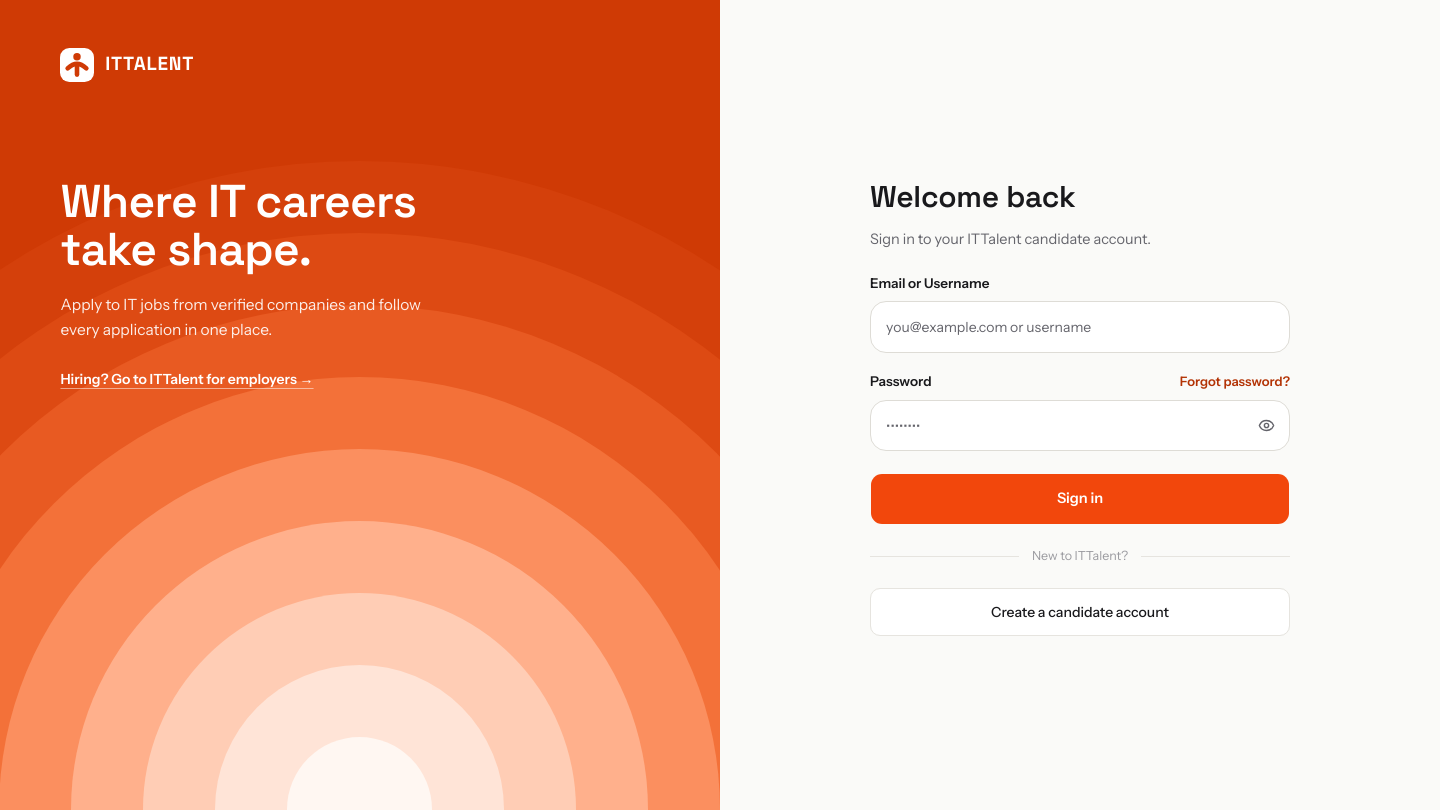
Scenario: LoginPage › displays error alert banner on invalid credentials
Type "wrong@example.com" into the field labelled "Email or Username" at [1080, 327], box x1=870 y1=301 x2=1290 y2=353
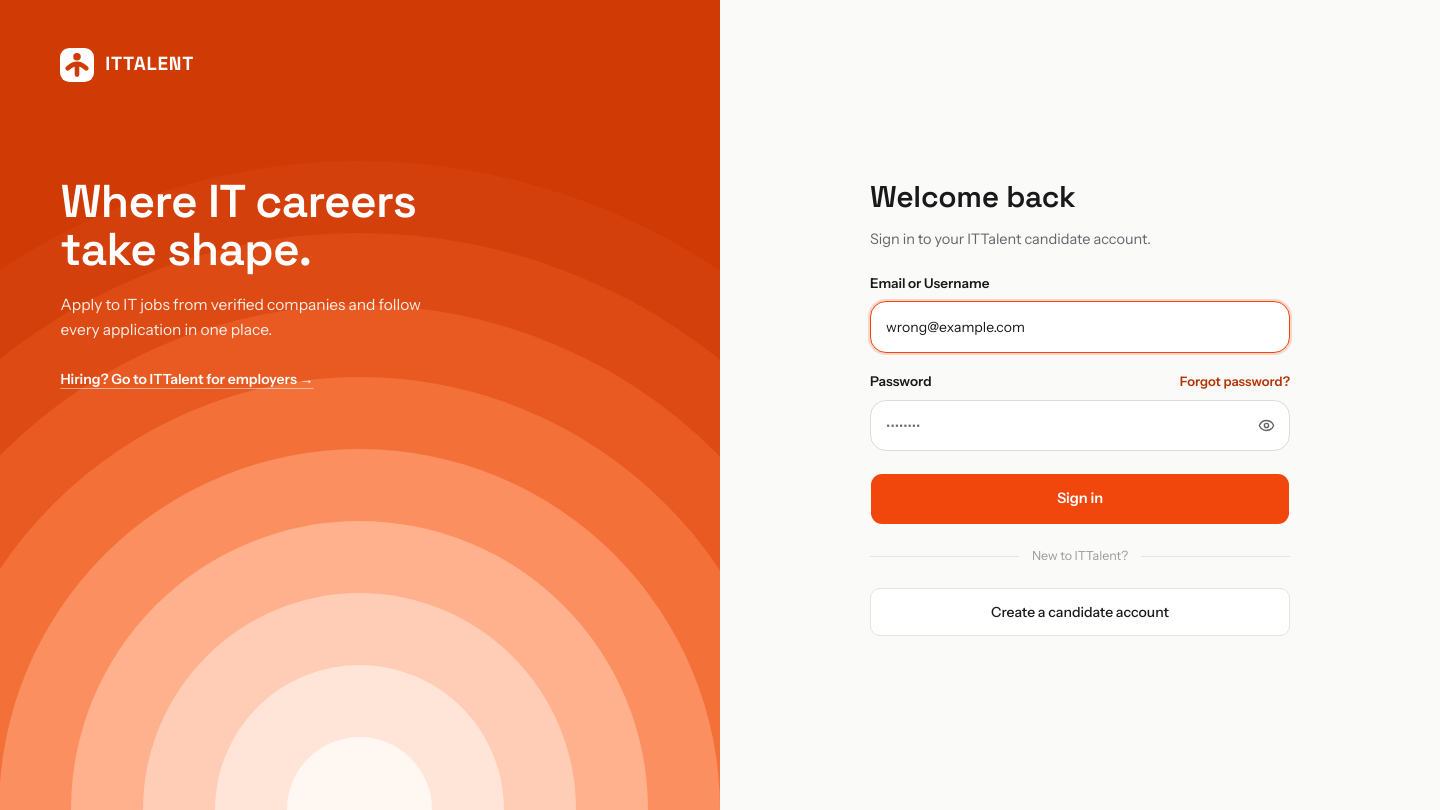
Type "WrongPassword!" into the password field labelled "Password" at [1080, 426], box x1=870 y1=400 x2=1290 y2=451
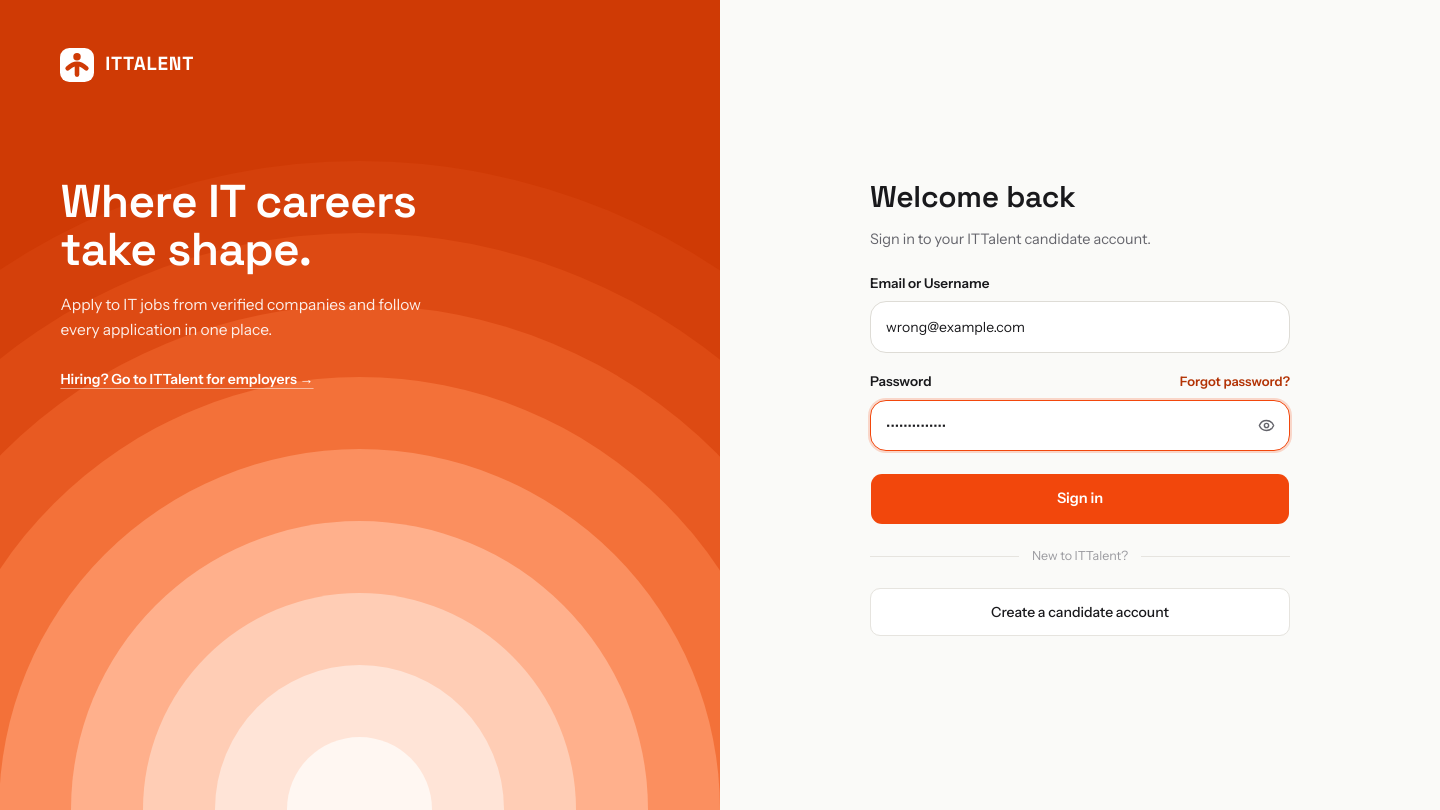
Click the button "Sign in" at [1080, 499], box x1=870 y1=474 x2=1290 y2=525
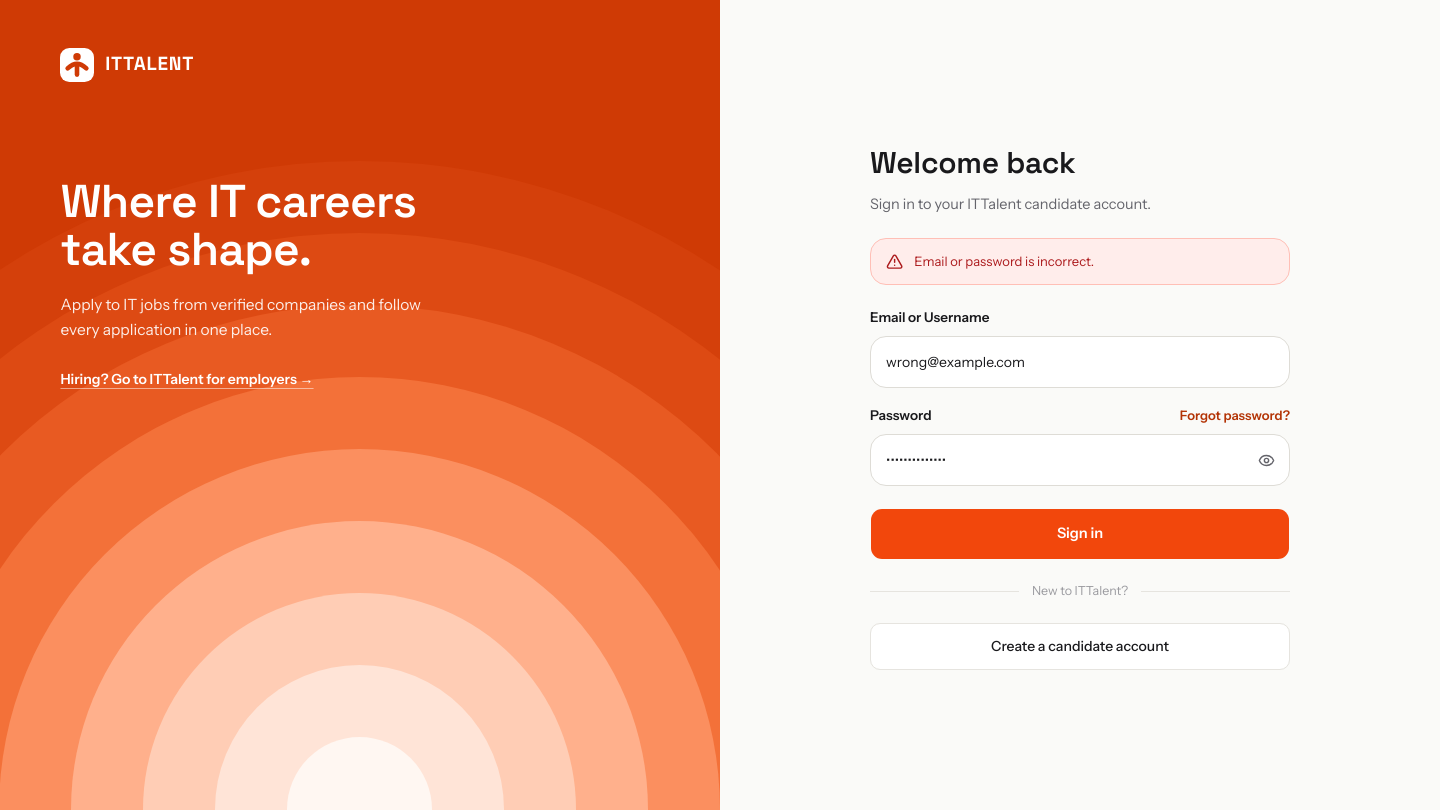
Expected: the text "Email or password is incorrect." is shown, x1=914 y1=253 x2=1094 y2=269
